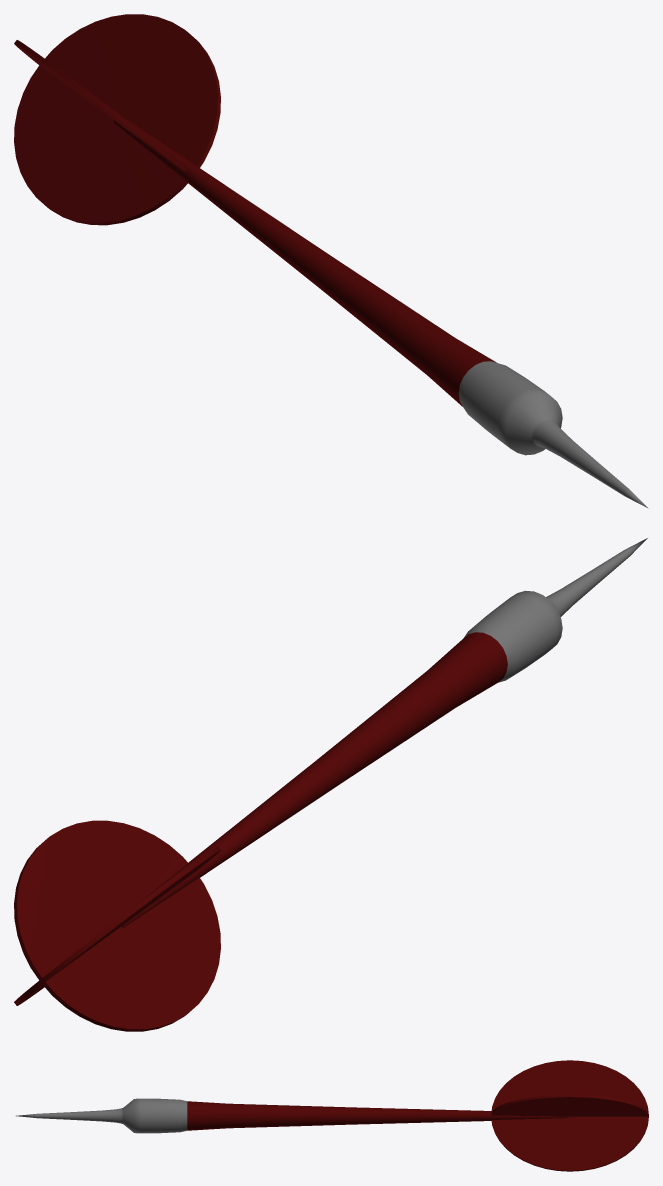
File: Dart.fbx
3 views of the same model, one above another, from view 1: azimuth 30°, elevation 25°; view 2: azimuth 150°, elevation 25°; view 3: azimuth 270°, elevation 25° (orthographic). The views are drawn at different scales.
Visible parts, largest first — view 1: Dart; view 2: Dart; view 3: Dart.
Boxes of the visible parts, box(x1,y1,x2,y2) form: Dart: box(14, 14, 648, 508); Dart: box(14, 538, 647, 1031); Dart: box(16, 1060, 648, 1171).
Size of the model in its own units: 1.02 by 1.02 by 7.63.
